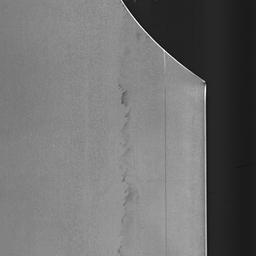Crescent gap: (124, 0, 206, 84)
